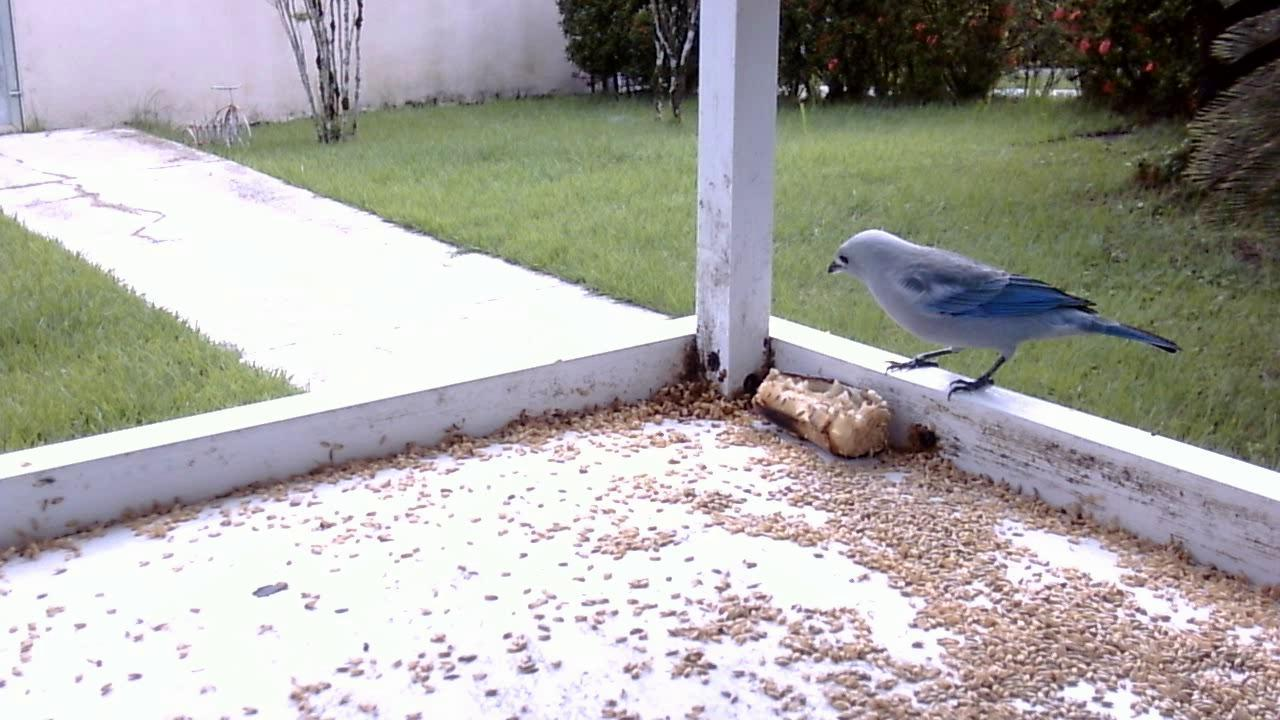sanhaco_da_amazonia: (813, 220, 1174, 411)
